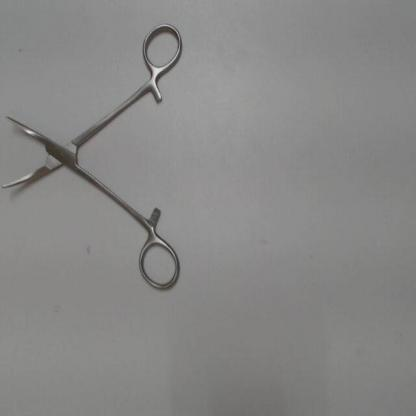Crile Artery Forceps: (1, 16, 187, 299)
